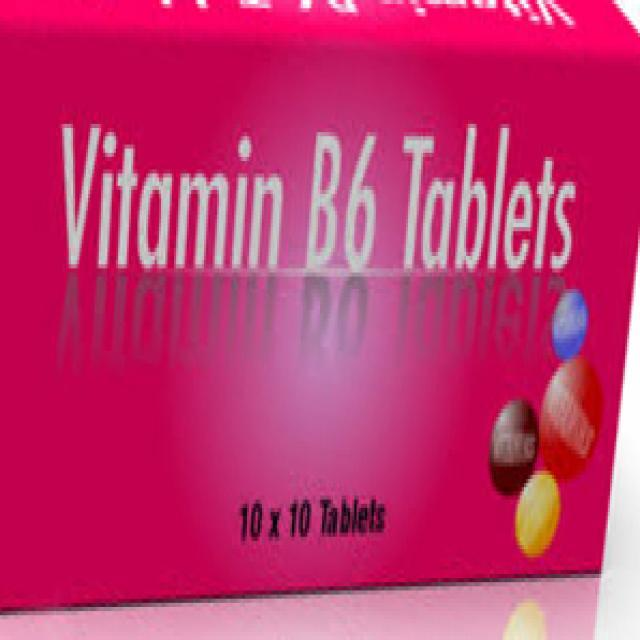drug-name: (59, 108, 388, 306)
